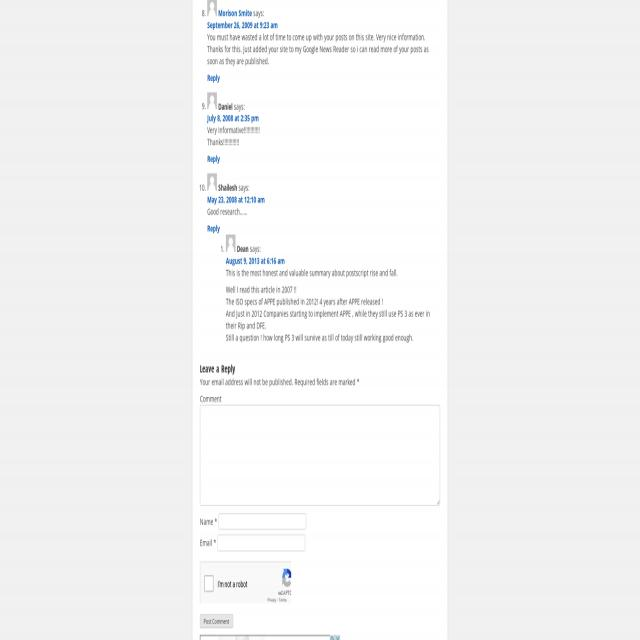button: (200, 614, 233, 628), (207, 92, 217, 110), (226, 234, 236, 252), (207, 173, 217, 190), (207, 0, 217, 16)
field: (200, 405, 440, 504), (218, 513, 306, 529), (217, 535, 305, 551), (204, 575, 213, 592)
